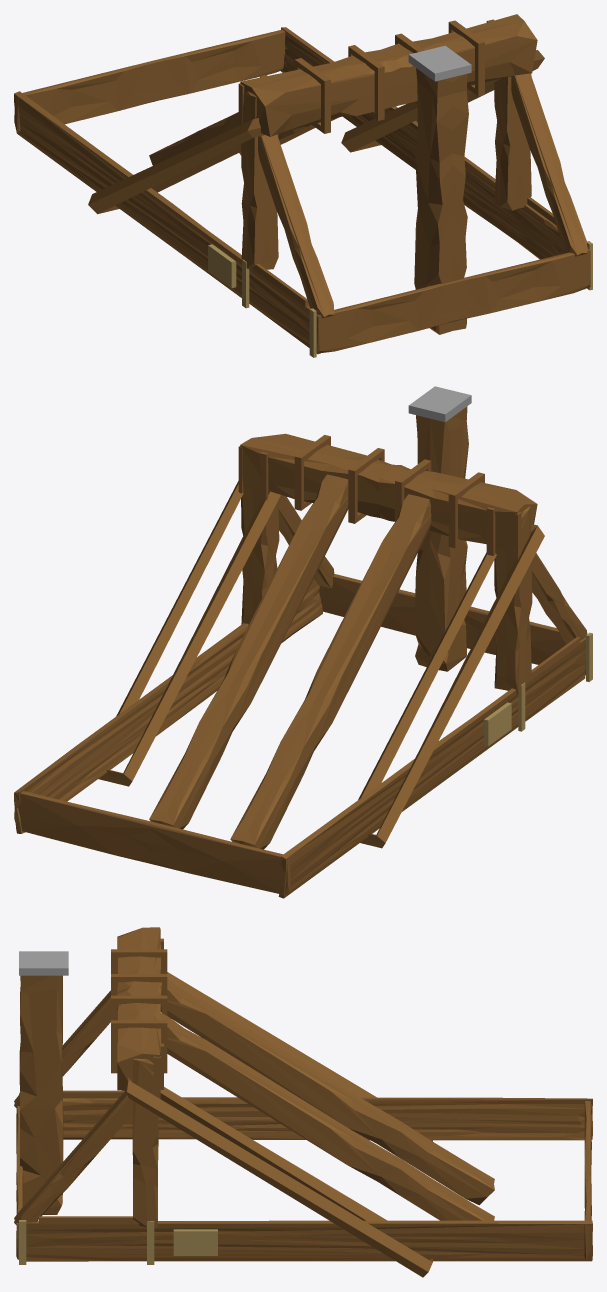
Rendered from SM_catapult_part_01.fbx.
3 renders of one model, top to bottom at view 1: azimuth 30°, elevation 25°; view 2: azimuth 150°, elevation 25°; view 3: azimuth 270°, elevation 25°, orthographic. The views are drawn at different scales.
Visible parts, largest first — view 1: catapult_part_01; view 2: catapult_part_01; view 3: catapult_part_01.
Boxes of the visible parts, x1=… form: catapult_part_01: x1=14, y1=14, x2=592, y2=357; catapult_part_01: x1=14, y1=386, x2=592, y2=898; catapult_part_01: x1=14, y1=927, x2=592, y2=1277.
Size of the model in its own units: 180 by 160 by 321.
